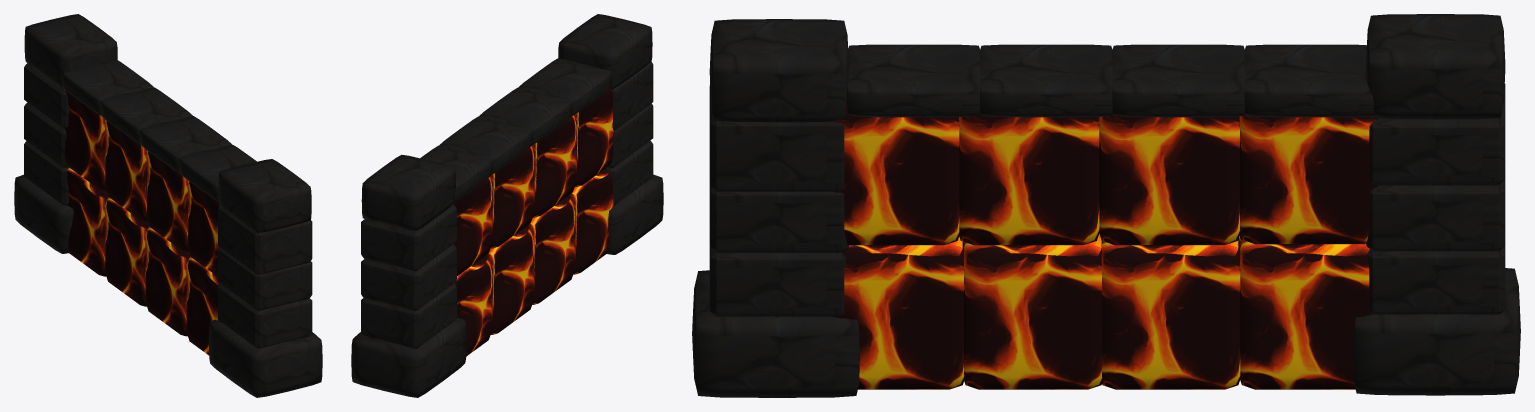
Rendered from lava11.fbx.
The picture shows the model from 3 angles, left to right: view 1: azimuth 30°, elevation 25°; view 2: azimuth 150°, elevation 25°; view 3: azimuth 270°, elevation 25°; orthographic projection. The views are drawn at different scales.
Parts seen in each view (by area): view 1: polySurface33; view 2: polySurface33; view 3: polySurface33.
Part boxes in pixels (<box>): polySurface33: <box>14,14,322,397</box>; polySurface33: <box>351,14,663,397</box>; polySurface33: <box>692,14,1520,397</box>.
Size of the model in its own units: 4.64 by 12.68 by 27.85.
3 materials, 2 textured.
